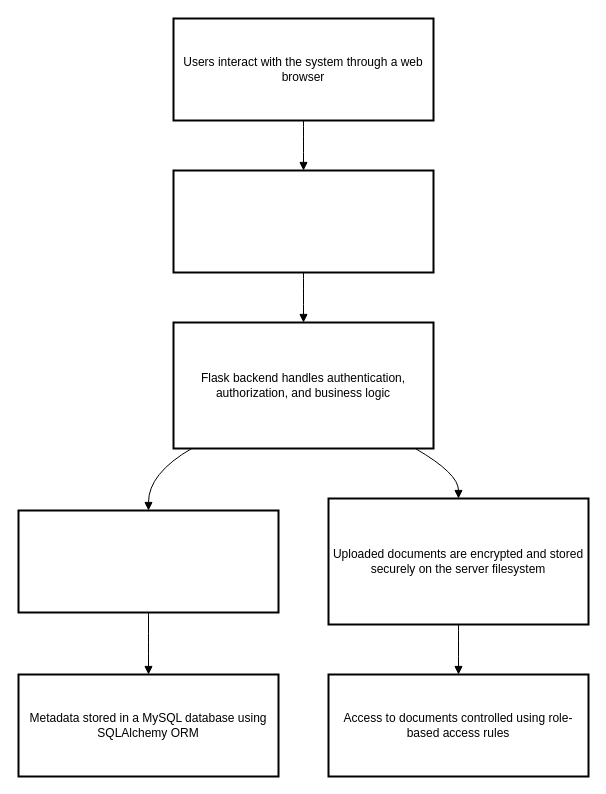
This 606x794 diagram has some shape labels left out. The centre of each missing label's shape, as x and y in pixels:
Requests pass through a secure frontend built using HTML, CSS, and JavaScript: pixel 303 221
User sessions managed securely using Flask-Login with CSRF protection: pixel 148 561
